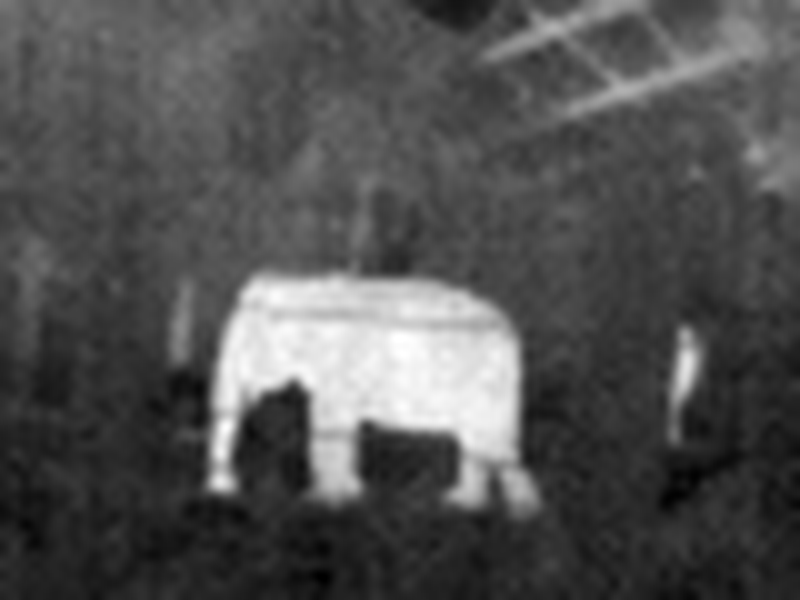elephant: (205, 259, 538, 524)
